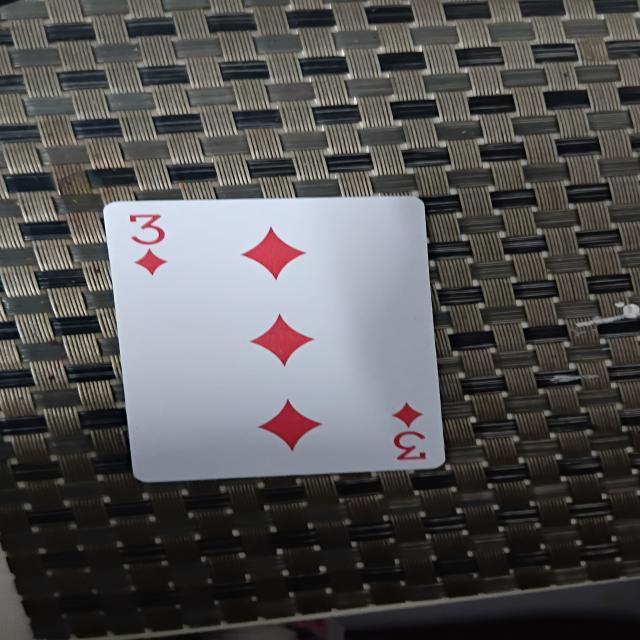3D: (109, 195, 443, 462)
